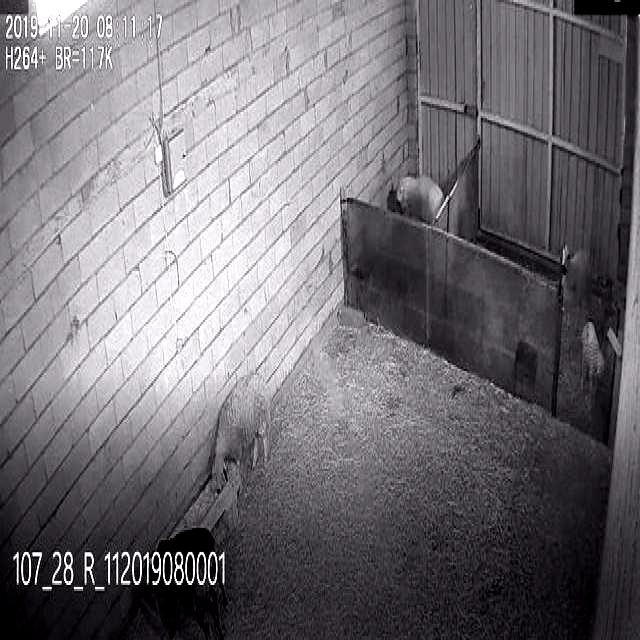sheep: (210, 370, 270, 493)
